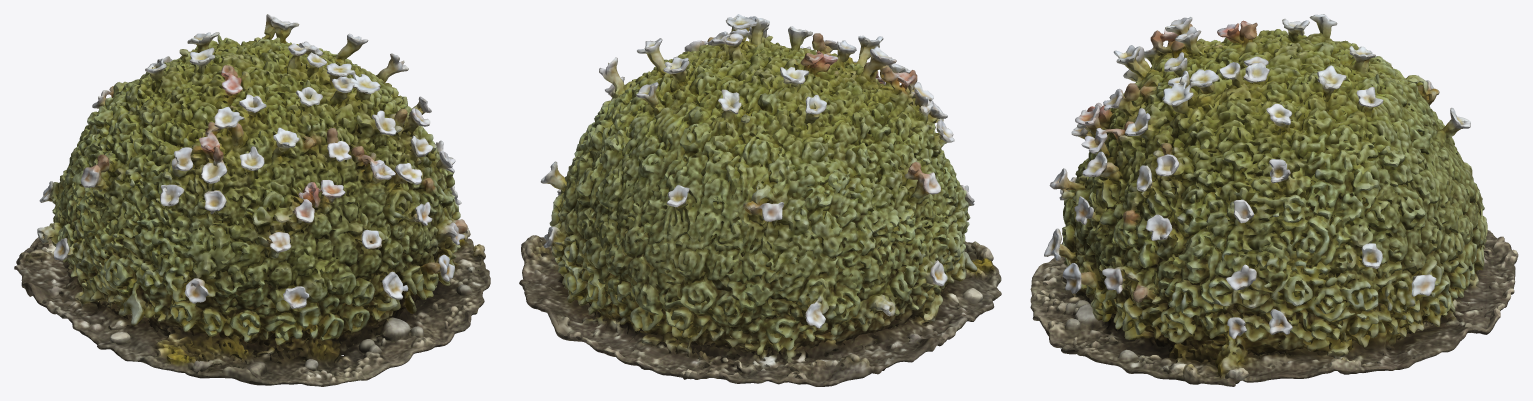
File: alpine-cushion-cluster-v21.glb
The picture shows the model from 3 angles, left to right: view 1: azimuth 30°, elevation 25°; view 2: azimuth 150°, elevation 25°; view 3: azimuth 270°, elevation 25°; orthographic projection. The views are drawn at different scales.
Parts seen in each view (by area): view 1: world; view 2: world; view 3: world.
Boxes of the visible parts, <box> form: world: <box>14,14,490,386</box>; world: <box>519,14,1001,386</box>; world: <box>1030,14,1518,386</box>.
Bounding box in the file's own units: 0.3 × 0.1819 × 0.2996.
1 material, 1 textured.
